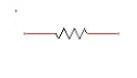resistor: (51, 22, 96, 43)
